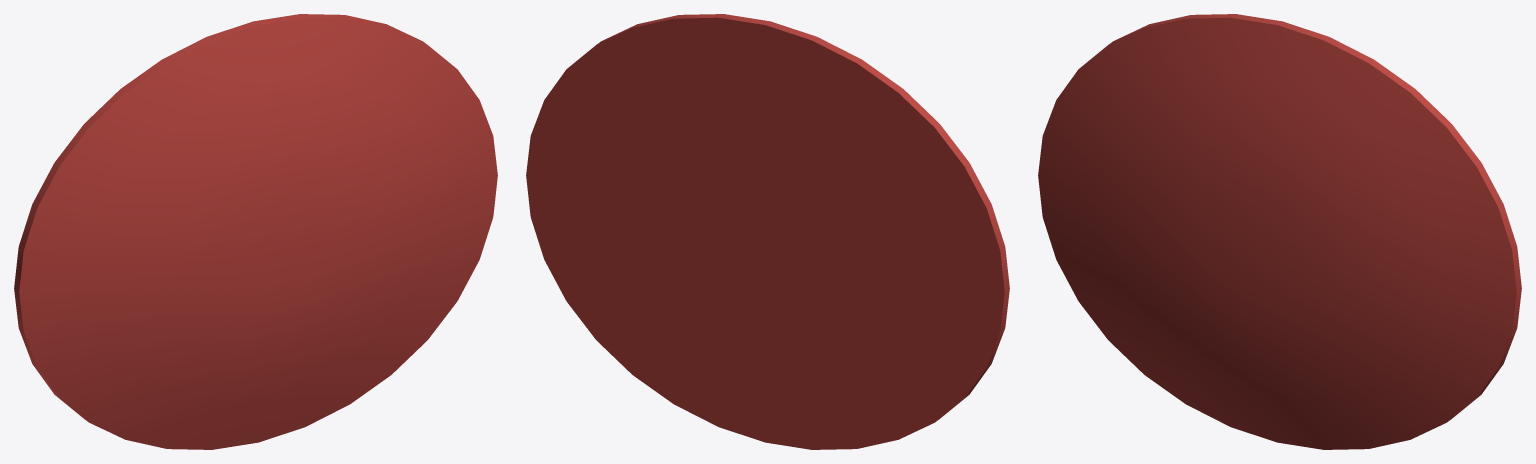
Rendered from chrome_lod1.glb.
3 renders of one model, left to right at view 1: azimuth 30°, elevation 25°; view 2: azimuth 150°, elevation 25°; view 3: azimuth 330°, elevation 25°, orthographic.
Visible parts, largest first — view 1: chrome_lod1; view 2: chrome_lod1; view 3: chrome_lod1.
Boxes of the visible parts, x1,y1,x2,y2 form: chrome_lod1: (14,14,497,449); chrome_lod1: (526,14,1009,449); chrome_lod1: (1038,14,1521,449).
Size of the model in its own units: 0.216 by 0.18 by 0.019.
